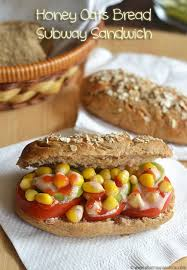sandwich: (2, 125, 187, 239)
